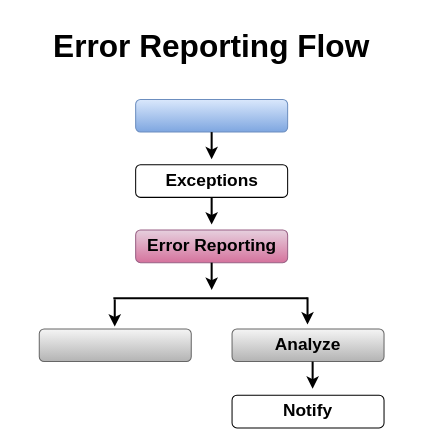
This 422x446 diagram has some shape labels left out. The shapes that lost their labels are listed below. From the top down, each one's centre as x and y in pixels, then its label:
At pixel 211 115: "Sources".
At pixel 114 345: "Group".
